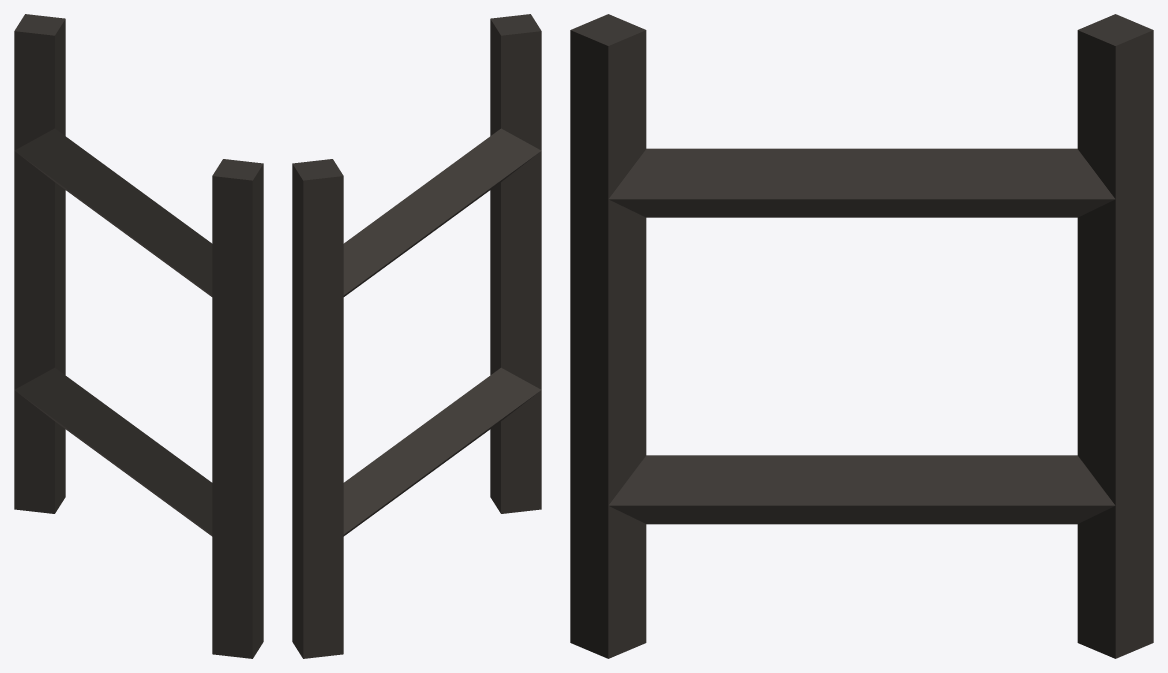
The model's file is SM_ladder_01.glb.
3 renders of one model, left to right at view 1: azimuth 30°, elevation 25°; view 2: azimuth 150°, elevation 25°; view 3: azimuth 270°, elevation 25°, orthographic. The views are drawn at different scales.
Visible parts, largest first — view 1: SM_ladder_01; view 2: SM_ladder_01; view 3: SM_ladder_01.
Boxes of the visible parts, x1=… form: SM_ladder_01: x1=14, y1=14, x2=263, y2=658; SM_ladder_01: x1=292, y1=14, x2=541, y2=658; SM_ladder_01: x1=570, y1=14, x2=1153, y2=658.
Size of the model in its own units: 0.1125 by 1 by 0.8625.
1 material, 1 textured.
